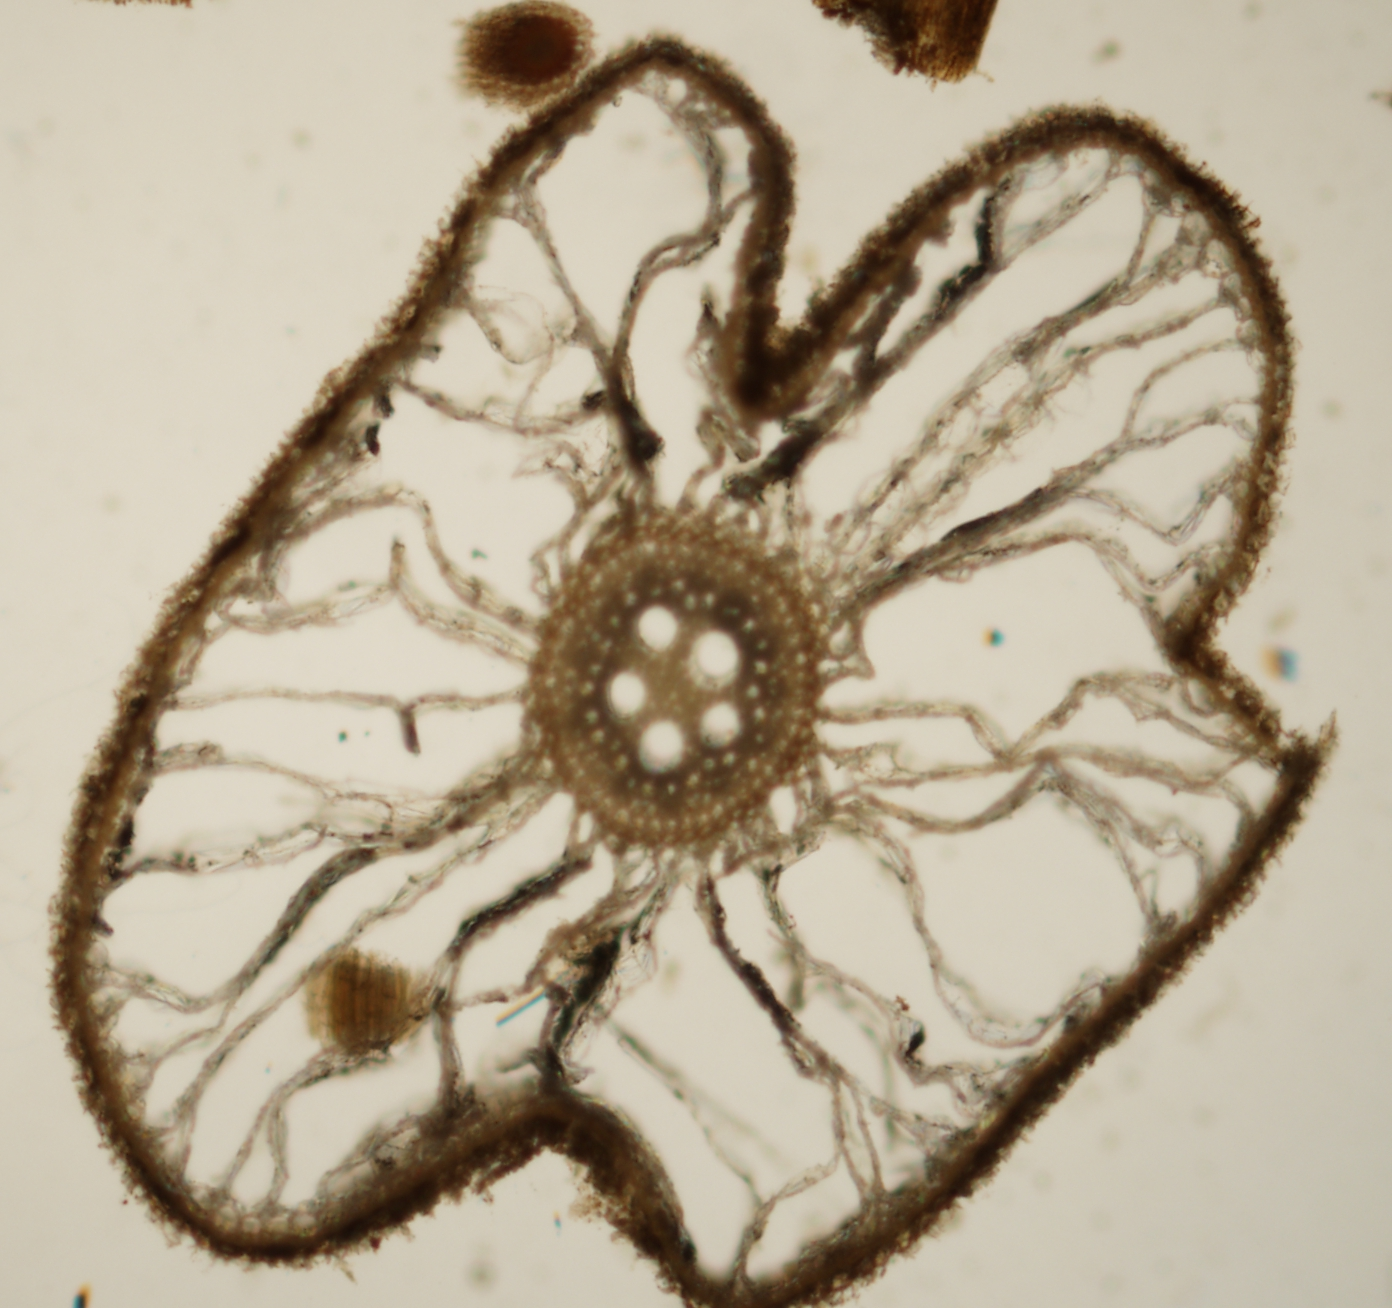lm: (687, 631, 741, 690), (638, 719, 686, 773), (698, 701, 743, 749), (638, 606, 678, 652), (610, 672, 646, 717)
